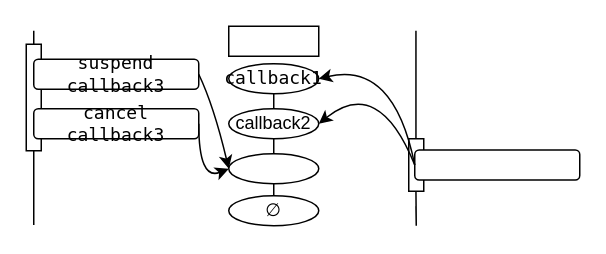
Some shapes in this 606 by 254 pixel diagram are drawn without their labels. Each missing label, with the centre of its shape:
"callback3" goes at [273,168].
"CQS" goes at [273,40].
"resume_all" goes at [496,164].
